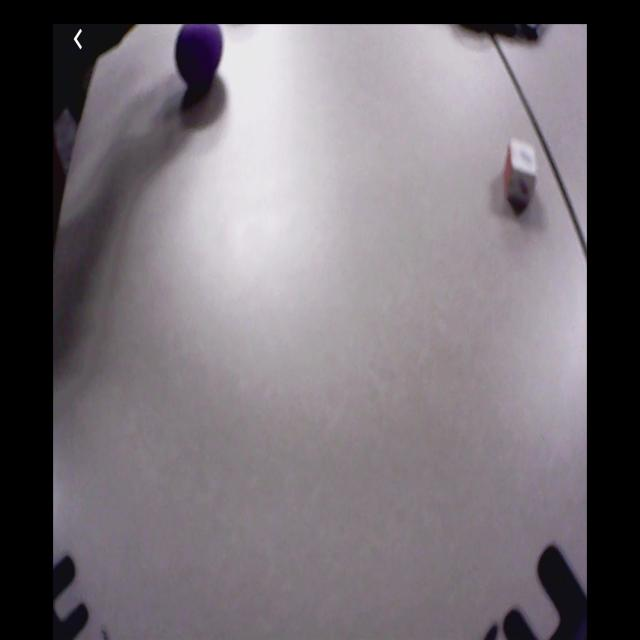ball: (176, 25, 223, 85)
